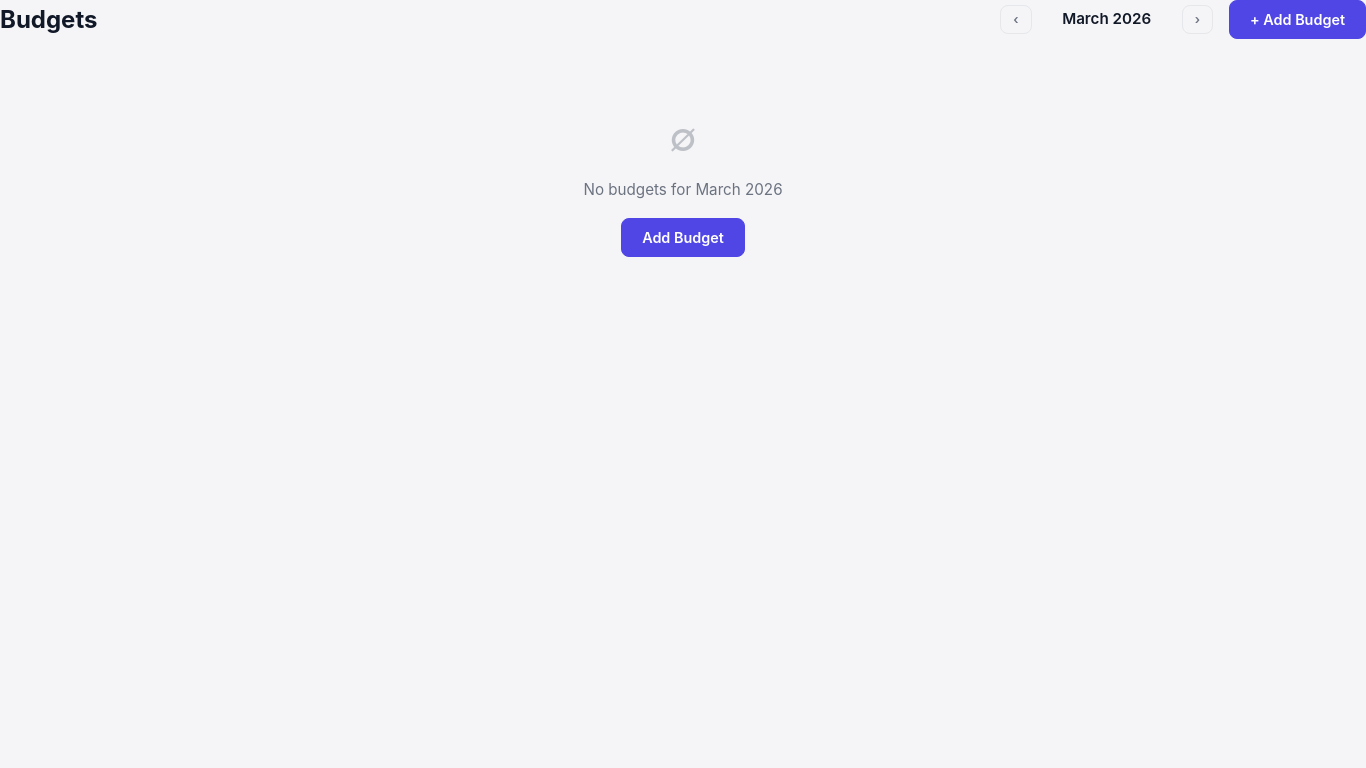
BudgetsPage › clicking "+ Add Budget" reveals a form in a modal
The width and height of the screenshot is (1366, 768).
Click the button "+ Add Budget" at (1298, 20), box top-left (1229, 0), bottom-right (1365, 39)
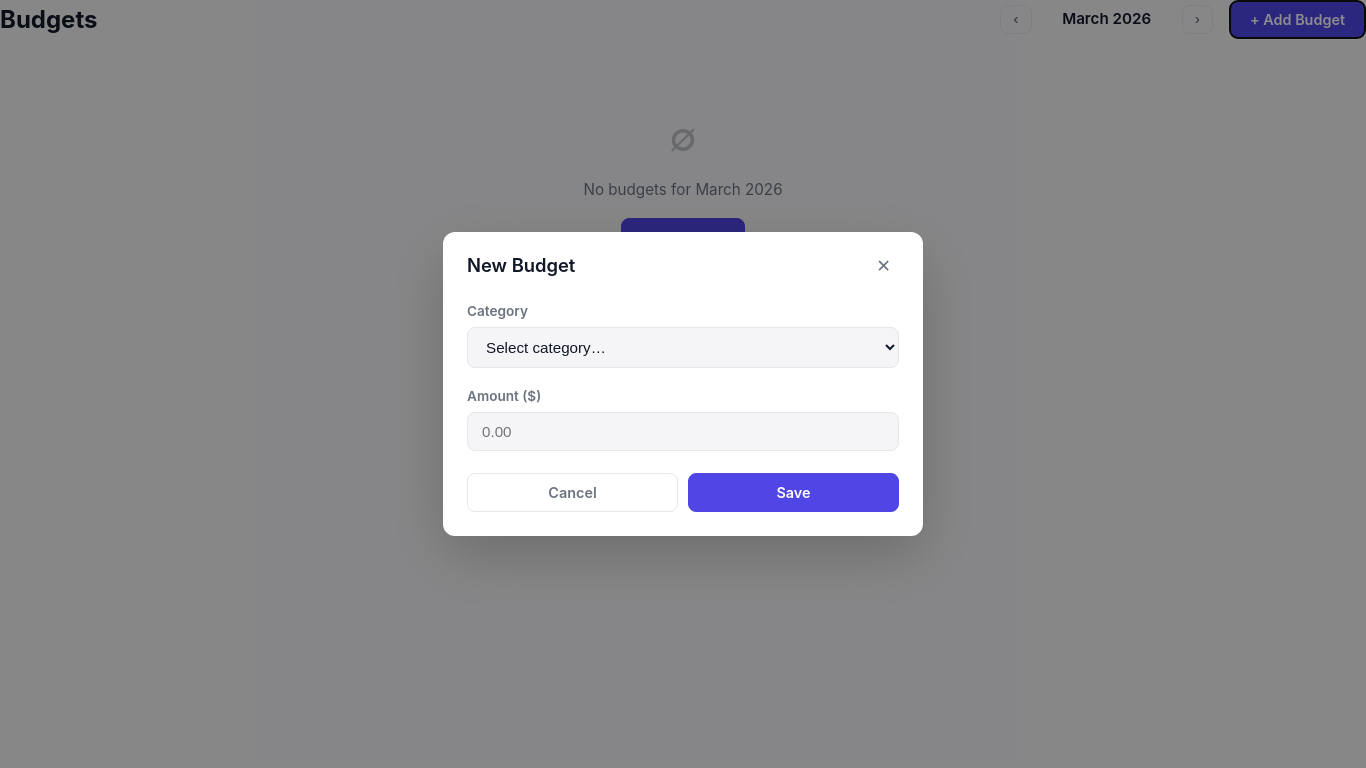
Now the heading "New Budget" is shown, box top-left (467, 252), bottom-right (575, 280)
Now the dropdown labelled "Category" is shown, box top-left (467, 327), bottom-right (899, 368)
Now the number field labelled "Amount ($)" is shown, box top-left (467, 412), bottom-right (899, 451)
